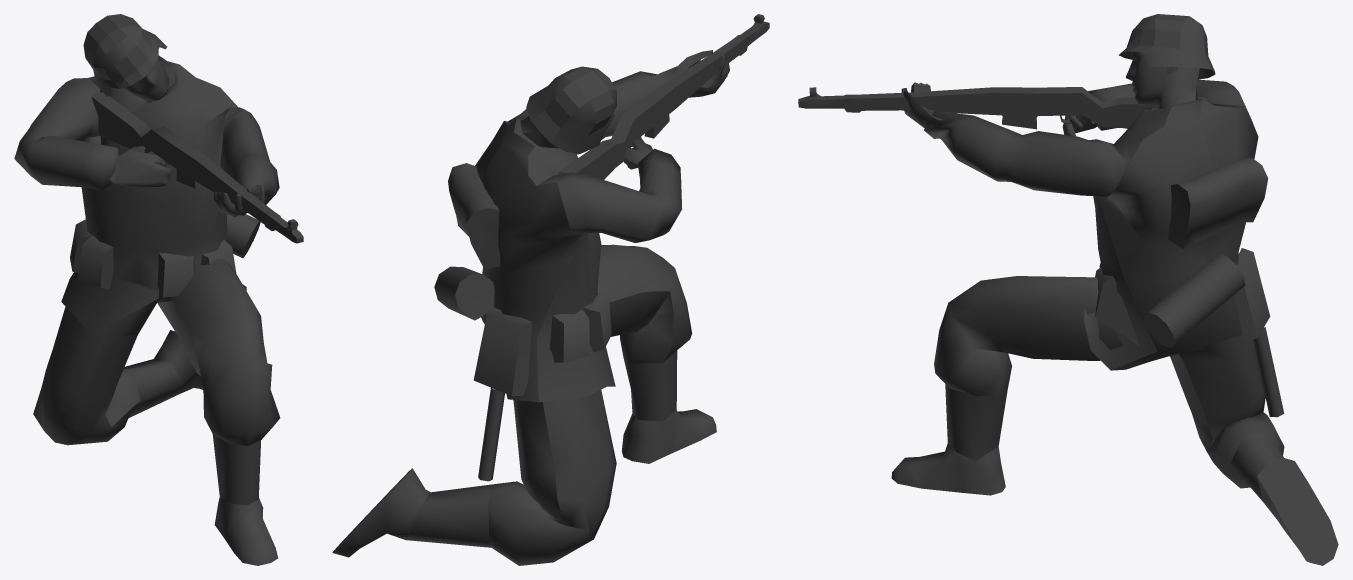
The model's file is de_fucile2_acc.glb.
3 views of the same model, side by side, from view 1: azimuth 30°, elevation 25°; view 2: azimuth 150°, elevation 25°; view 3: azimuth 270°, elevation 25° (orthographic).
Parts seen in each view (by area): view 1: german_03.002_german_03.001_2; view 2: german_03.002_german_03.001_2; view 3: german_03.002_german_03.001_2.
Boxes of the visible parts, bbox=[...] form: german_03.002_german_03.001_2: bbox=[14, 14, 303, 565]; german_03.002_german_03.001_2: bbox=[332, 14, 769, 565]; german_03.002_german_03.001_2: bbox=[798, 14, 1338, 565].
Bounding box in the file's own units: 0.2324 × 0.387 × 0.4046.
1 material, 1 textured.
